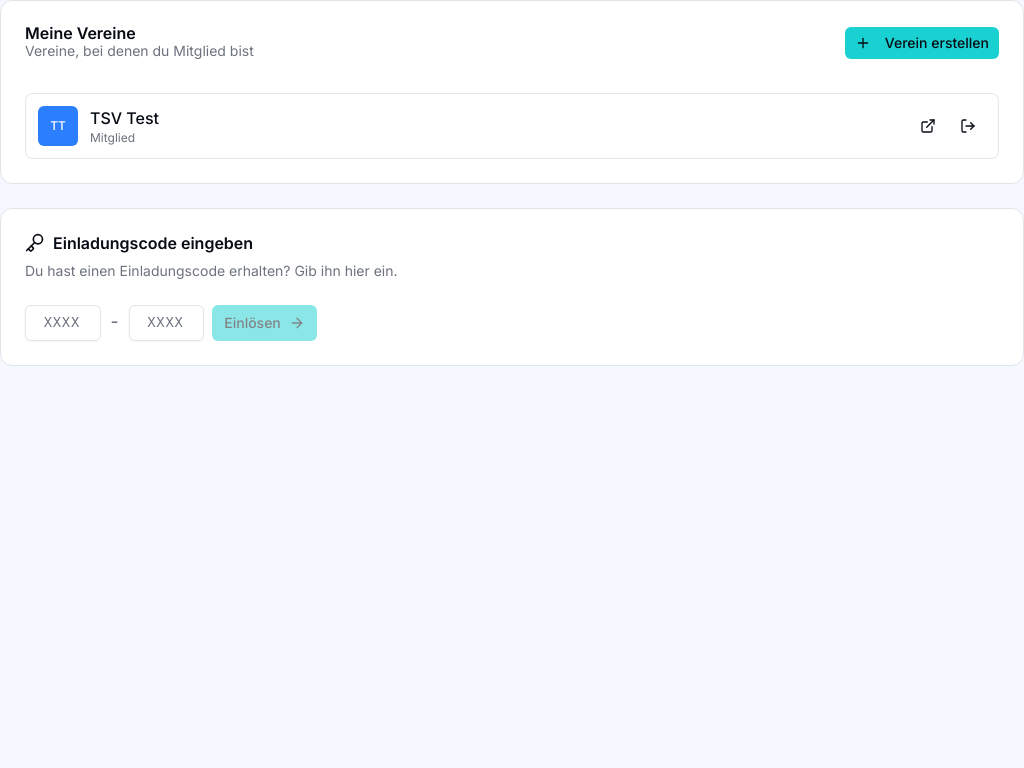
MyClubsPage › leave club › opens confirmation dialog when non-owner clicks leave button
Click the button titled "Verein verlassen". click: click(968, 126)
box: x1=950 y1=108 x2=986 y2=144
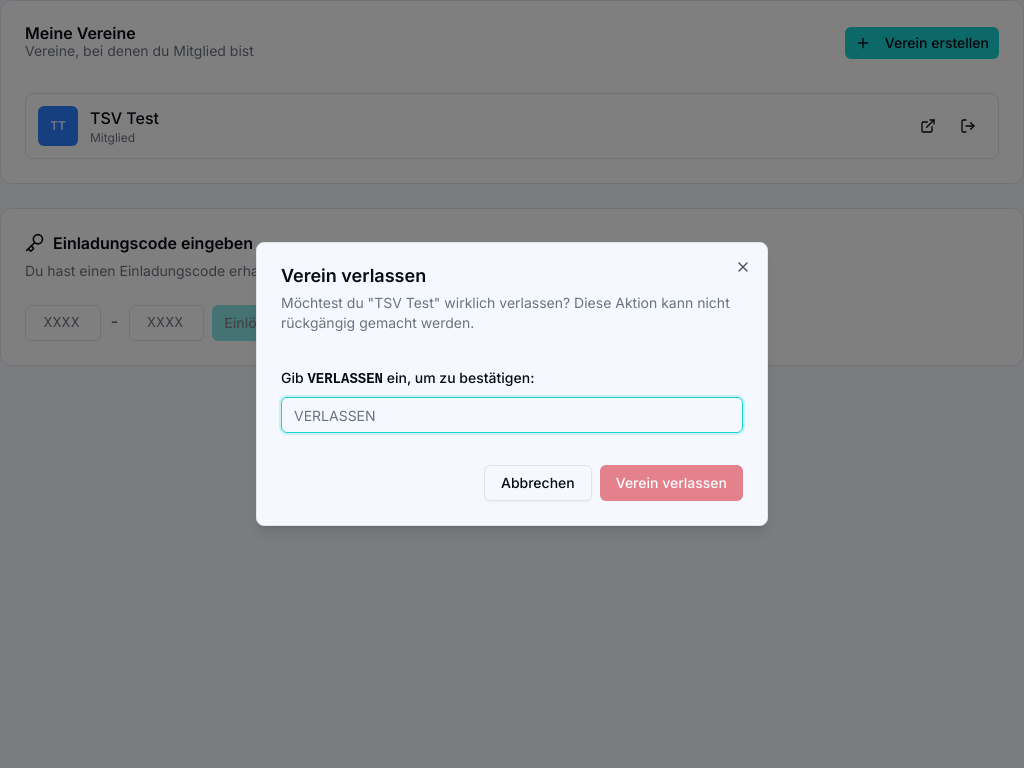
Check: the dialog is shown, box x1=256 y1=242 x2=768 y2=526
Check: the text "Möchtest du \"TSV Test\" wirklich verlassen" is shown, box x1=281 y1=293 x2=743 y2=333
Check: the field with placeholder "VERLASSEN" is shown, box x1=281 y1=397 x2=743 y2=433
